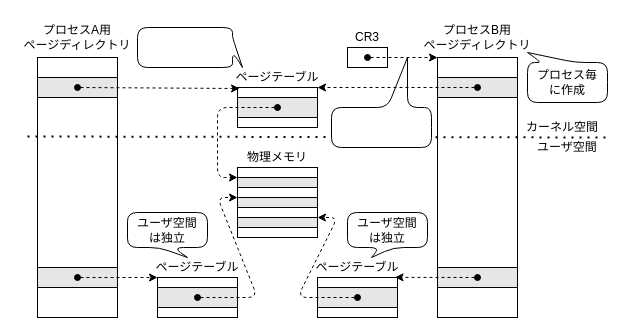
This 626x335 diagram has some shape labels left out. Here are the shapes that lost their labels. From the top down, the box of each, then its label:
(136, 26, 242, 68): カーネル空間 は共有
(330, 56, 432, 148): タスクスイッチ時に切替
